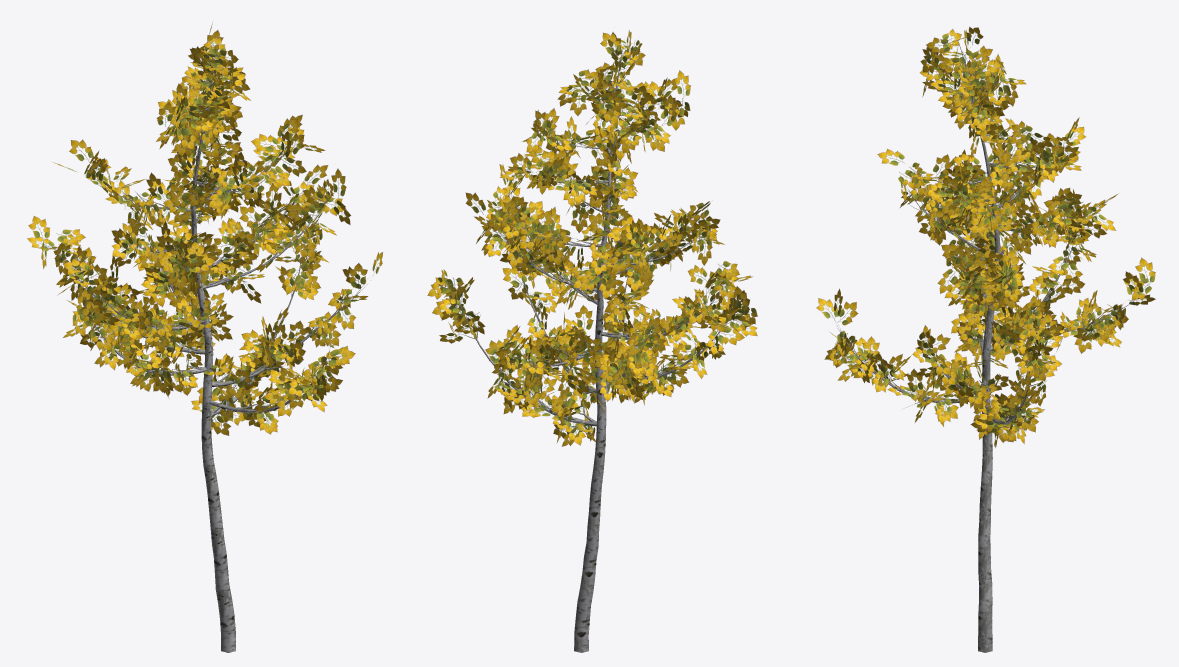
File: quaking_aspen_2.glb
3 renders of one model, left to right at view 1: azimuth 30°, elevation 25°; view 2: azimuth 150°, elevation 25°; view 3: azimuth 270°, elevation 25°, orthographic. The views are drawn at different scales.
Parts seen in each view (by area): view 1: foliage.001, structure.001; view 2: foliage.001, structure.001; view 3: foliage.001, structure.001.
Part boxes in pixels (x1,y1,x2,y2): foliage.001: (27, 23, 382, 435); structure.001: (65, 41, 372, 652); foliage.001: (427, 30, 757, 446); structure.001: (453, 40, 739, 652); foliage.001: (816, 26, 1155, 447); structure.001: (834, 34, 1145, 652).
Bounding box in the file's own units: 10.45 × 20.34 × 10.74.
Materials: 2 (2 with a texture image).
